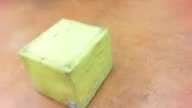cube: (18, 18, 113, 108)
